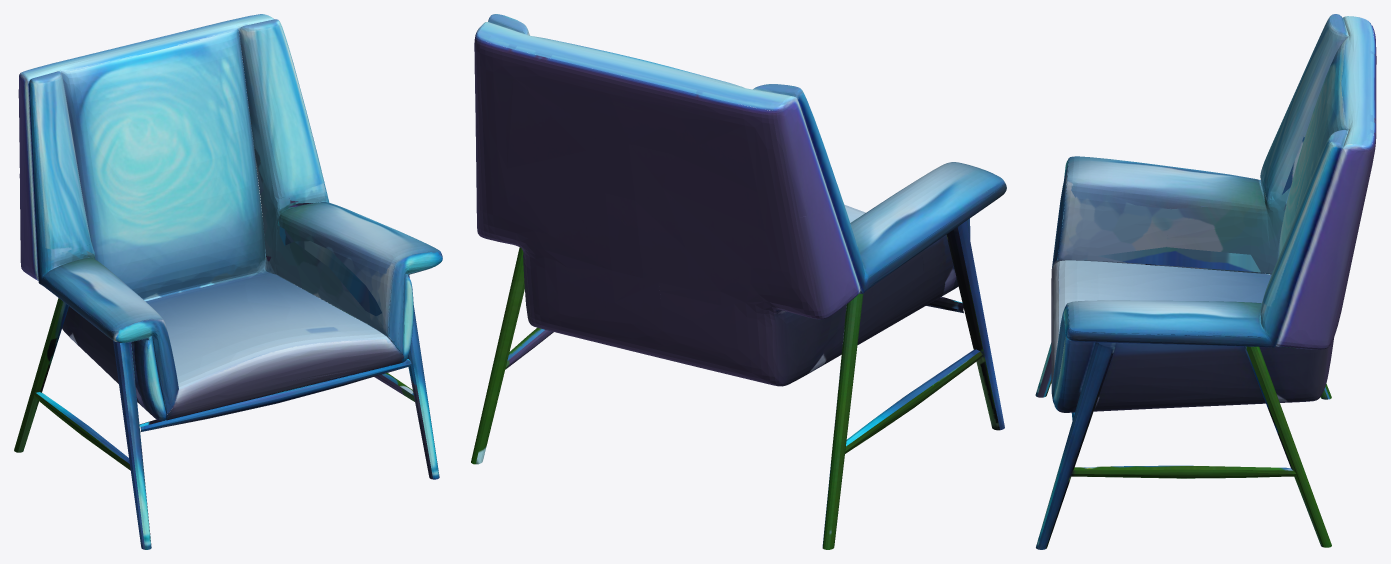
File: edited_mesh.glb
The picture shows the model from 3 angles, left to right: view 1: azimuth 30°, elevation 25°; view 2: azimuth 150°, elevation 25°; view 3: azimuth 270°, elevation 25°; orthographic projection. The views are drawn at different scales.
Parts seen in each view (by area): view 1: solid_001_wire; view 2: solid_001_wire; view 3: solid_001_wire.
Boxes of the visible parts, bbox=[...] form: solid_001_wire: bbox=[14, 14, 442, 549]; solid_001_wire: bbox=[471, 14, 1006, 549]; solid_001_wire: bbox=[1035, 14, 1376, 549].
Size of the model in its own units: 1.29 by 1.36 by 1.06.
1 material, 1 textured.
